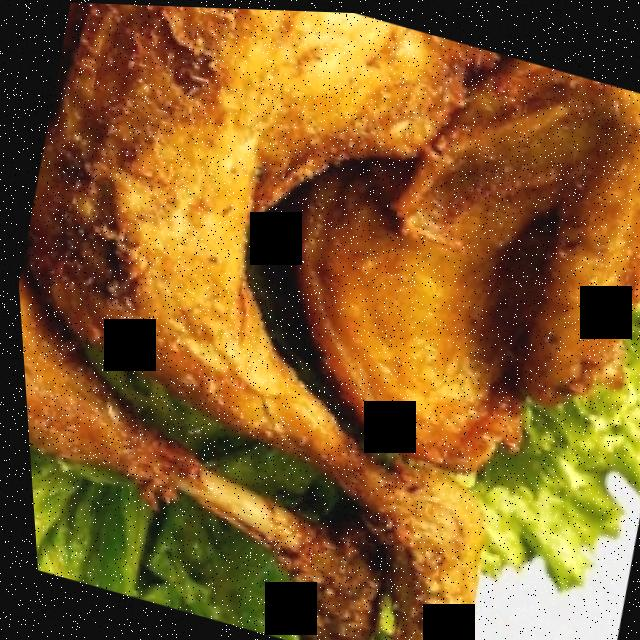Frango: (0, 0, 604, 640), (239, 7, 640, 512), (13, 255, 428, 640)
